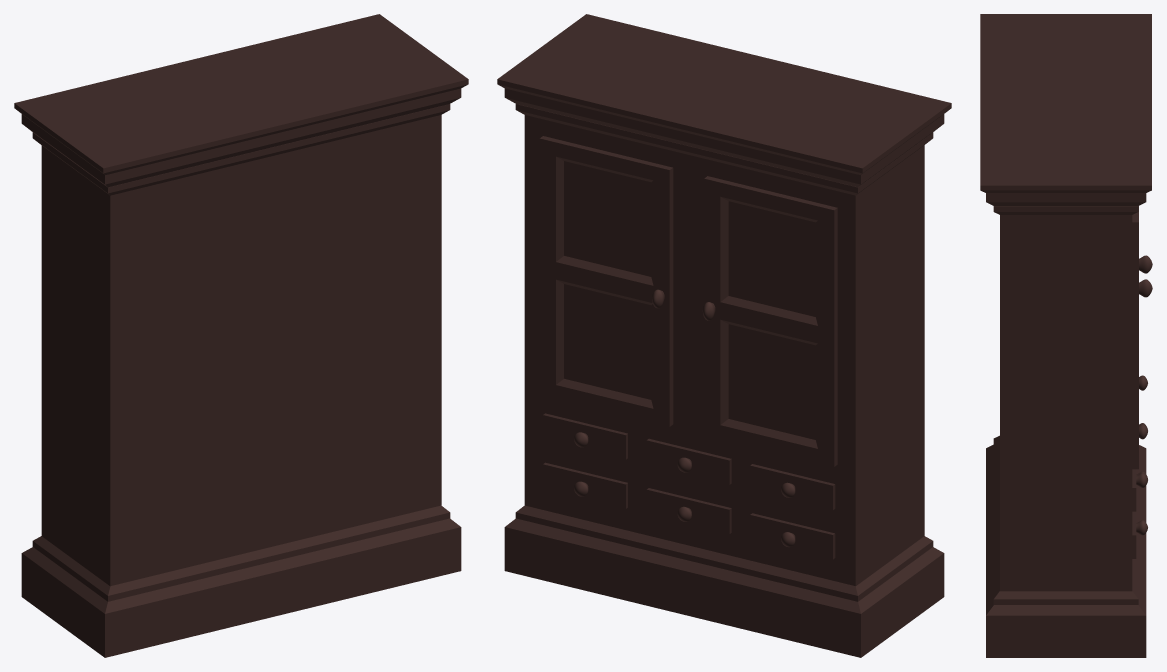
The model's file is Armoire1_7.fbx.
3 views of the same model, side by side, from view 1: azimuth 30°, elevation 25°; view 2: azimuth 150°, elevation 25°; view 3: azimuth 270°, elevation 25° (orthographic). The views are drawn at different scales.
Parts seen in each view (by area): view 1: pCube2399, pCube2398, pCube2402, pCube2401, pCube2400, pCube2397; view 2: pCube2399, pCube2398, pCube2422, pCube2425, pCube2402, pCube2401, pCube2400, pCube2397, pCube2417, pCube2415, pCube2418, pCube2416 (+2 smaller); view 3: pCube2399, pCube2398, pCube2402, pCube2401, pCube2400, pCube2422, pCube2397.
Boxes of the visible parts, bbox=[...] form: pCube2399: bbox=[41, 115, 441, 586]; pCube2398: bbox=[14, 14, 468, 174]; pCube2402: bbox=[21, 518, 461, 657]; pCube2401: bbox=[32, 505, 450, 601]; pCube2400: bbox=[21, 88, 461, 187]; pCube2397: bbox=[32, 104, 450, 195]; pCube2399: bbox=[524, 115, 924, 586]; pCube2398: bbox=[497, 14, 951, 174]; pCube2422: bbox=[539, 136, 673, 426]; pCube2425: bbox=[704, 176, 837, 466]; pCube2402: bbox=[504, 518, 944, 657]; pCube2401: bbox=[515, 505, 933, 601]; pCube2400: bbox=[504, 88, 944, 187]; pCube2397: bbox=[515, 104, 933, 195]; pCube2417: bbox=[750, 513, 835, 559]; pCube2415: bbox=[646, 438, 731, 484]; pCube2418: bbox=[646, 488, 731, 534]; pCube2416: bbox=[750, 464, 835, 510]; pCube2399: bbox=[1000, 215, 1132, 591]; pCube2398: bbox=[980, 14, 1151, 192]; pCube2402: bbox=[986, 444, 1146, 657]; pCube2401: bbox=[993, 435, 1138, 604]; pCube2400: bbox=[986, 193, 1146, 205]; pCube2422: bbox=[1132, 206, 1138, 469]; pCube2397: bbox=[993, 206, 1138, 214].
Bounding box in the file's own units: 91.15 × 118 × 38.72.
